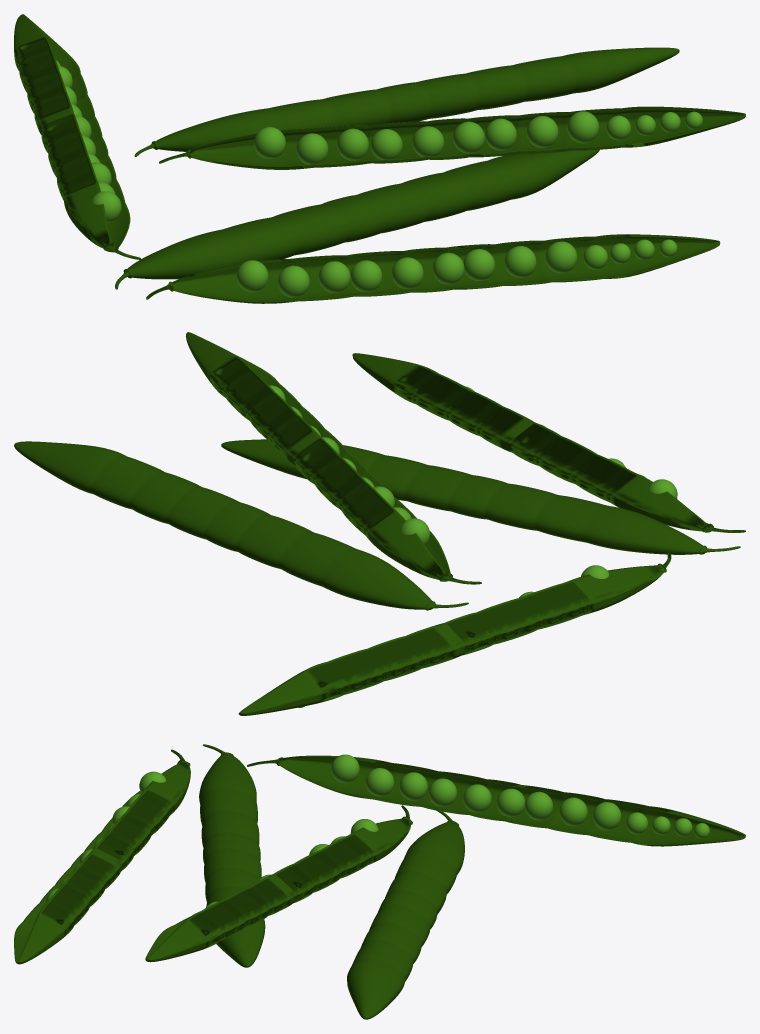
3 renders of one model, top to bottom at view 1: azimuth 30°, elevation 25°; view 2: azimuth 150°, elevation 25°; view 3: azimuth 270°, elevation 25°, orthographic. The views are drawn at different scales.
Parts seen in each view (by area): view 1: pCube10; view 2: pCube10; view 3: pCube10.
Boxes of the visible parts, bbox=[...] form: pCube10: bbox=[14, 14, 745, 303]; pCube10: bbox=[14, 332, 745, 715]; pCube10: bbox=[14, 744, 745, 1019].
Size of the model in its own units: 2.39 by 0.2752 by 2.6.
